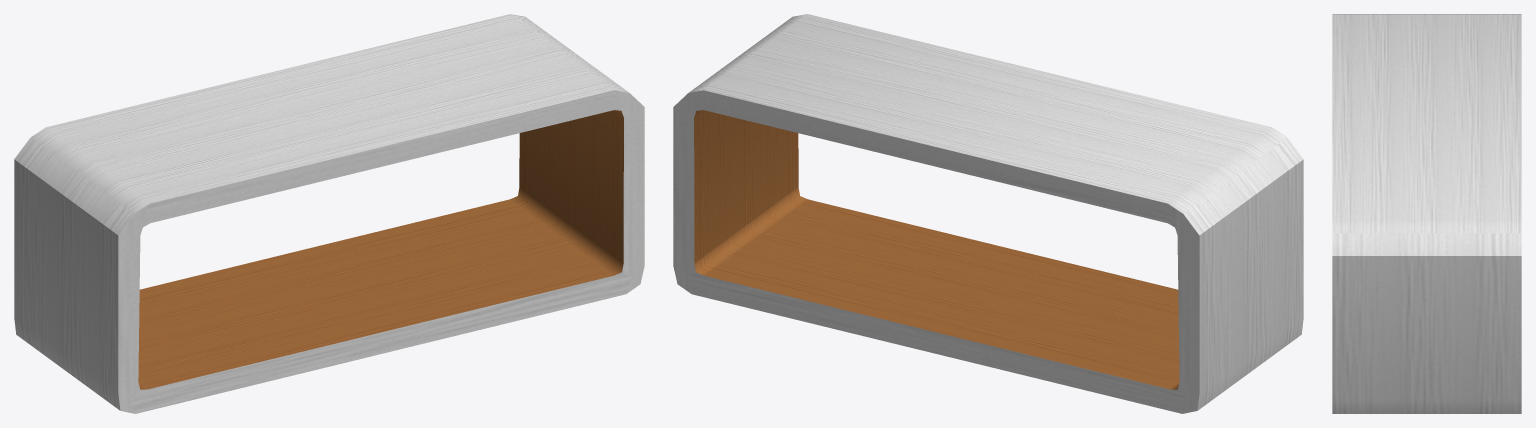
The model's file is Wall_Shelf_01_K.FBX.
3 renders of one model, left to right at view 1: azimuth 30°, elevation 25°; view 2: azimuth 150°, elevation 25°; view 3: azimuth 270°, elevation 25°, orthographic. The views are drawn at different scales.
Parts seen in each view (by area): view 1: Wall_Shelf; view 2: Wall_Shelf; view 3: Wall_Shelf.
Part boxes in pixels (box(x1,y1,x2,y2)): Wall_Shelf: box(14, 14, 644, 413); Wall_Shelf: box(673, 14, 1303, 413); Wall_Shelf: box(1332, 14, 1521, 413).
Size of the model in its own units: 160 by 60.21 by 54.97.
